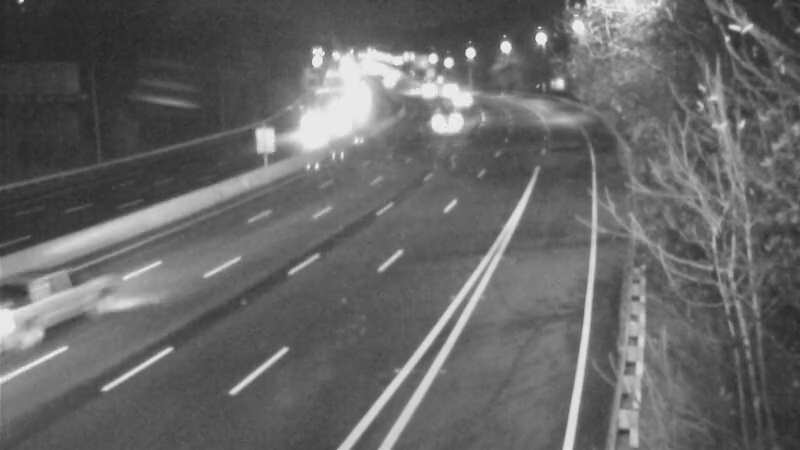vehicle: (1, 263, 98, 373), (363, 62, 413, 112), (401, 63, 451, 113), (388, 69, 438, 119), (439, 74, 489, 124), (408, 97, 458, 147), (288, 105, 338, 155)
